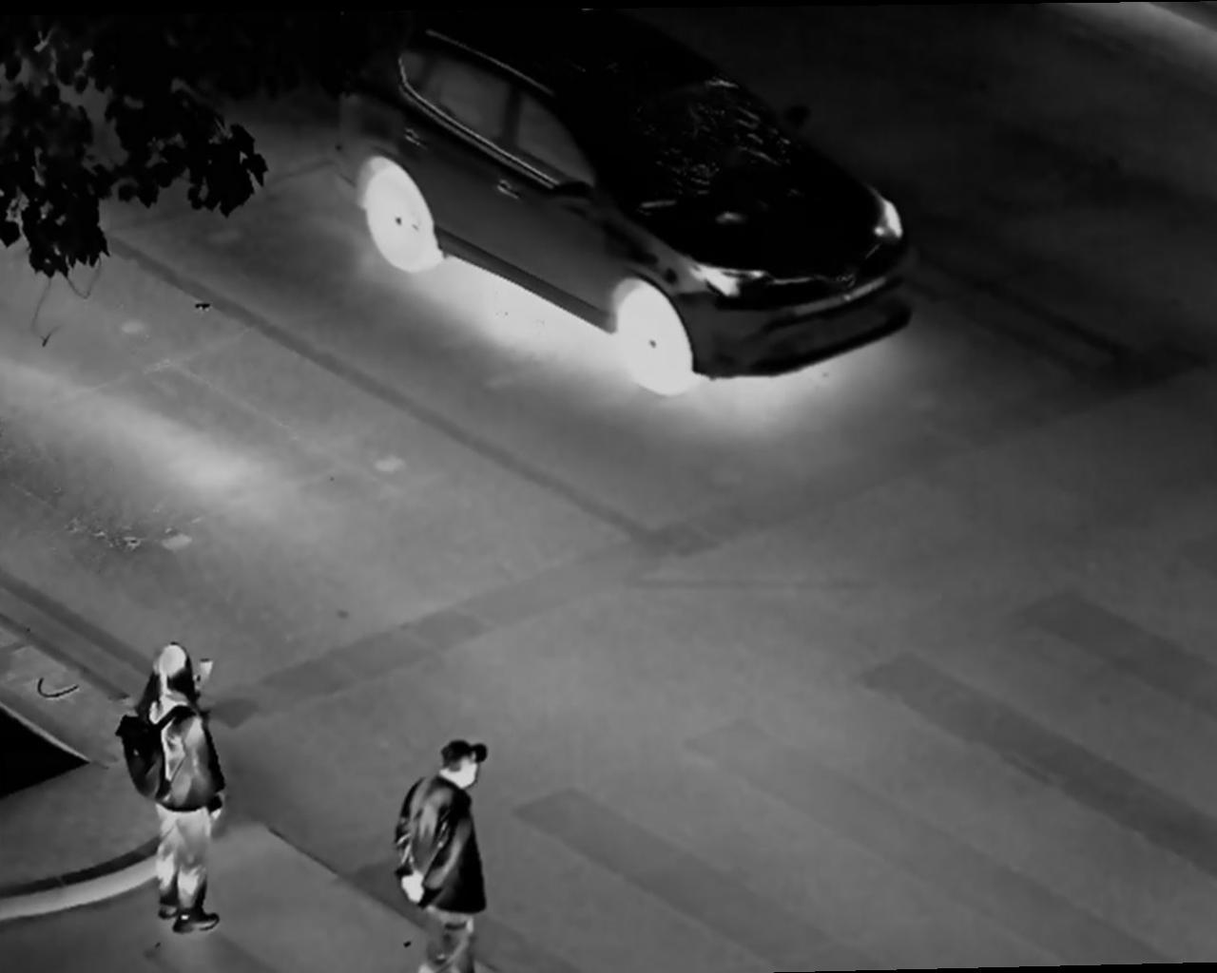person: (117, 637, 255, 946), (398, 733, 508, 973)
